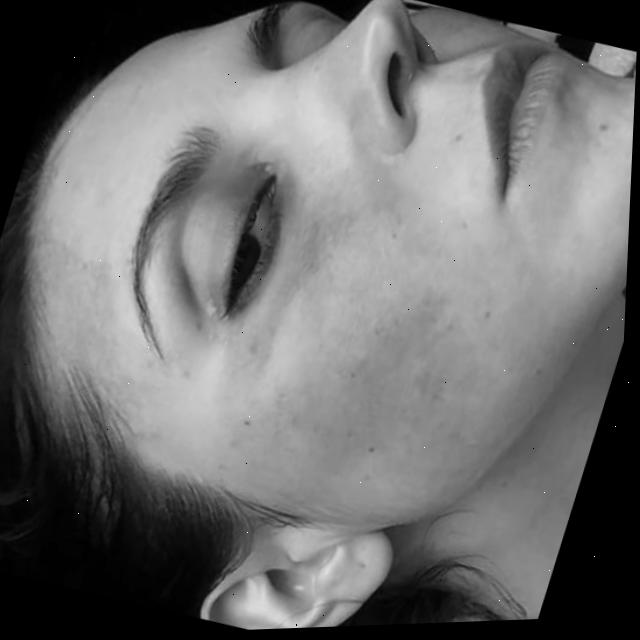Rosacea: (244, 196, 530, 491)
